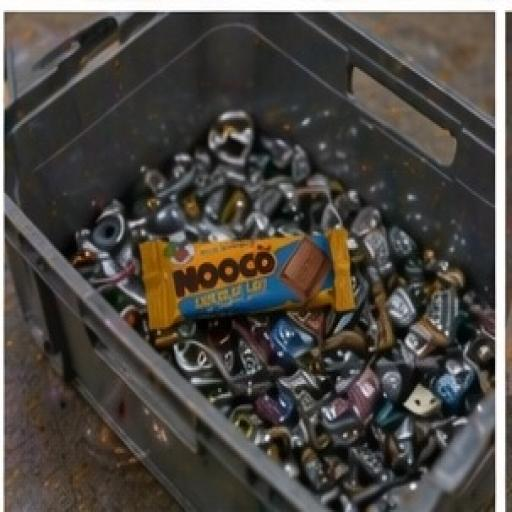nooco: (112, 205, 387, 338)
